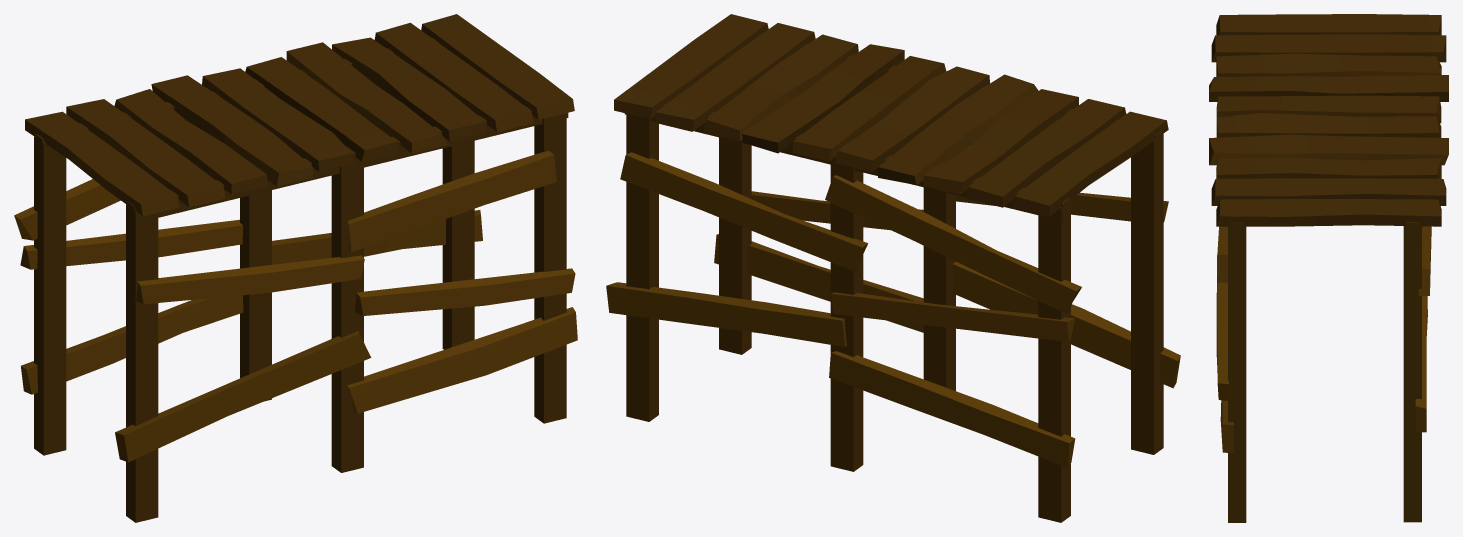
The model's file is wood_walkway.fbx.
3 views of the same model, side by side, from view 1: azimuth 30°, elevation 25°; view 2: azimuth 150°, elevation 25°; view 3: azimuth 270°, elevation 25° (orthographic). The views are drawn at different scales.
Visible parts, largest first — view 1: polySurface118; view 2: polySurface118; view 3: polySurface118.
Part boxes in pixels (bbox=[...]): polySurface118: bbox=[14, 14, 577, 522]; polySurface118: bbox=[606, 14, 1180, 522]; polySurface118: bbox=[1209, 14, 1448, 522].
Bounding box in the file's own units: 27.45 × 18.36 × 12.79.
